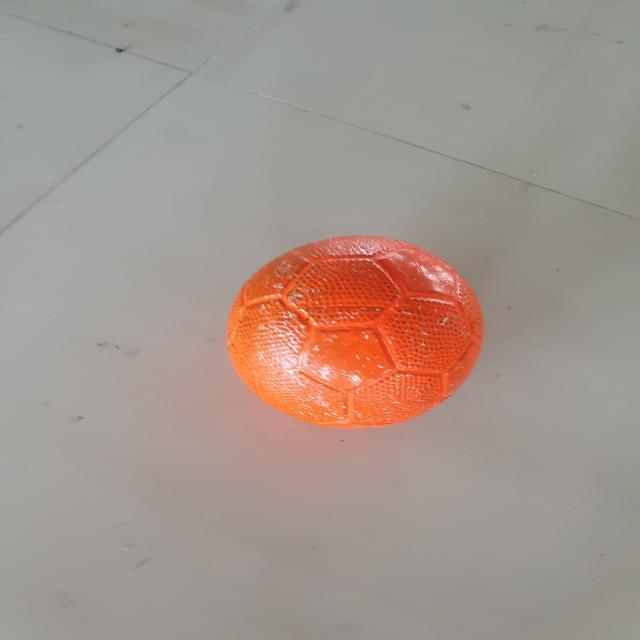bola: (200, 225, 494, 424)
